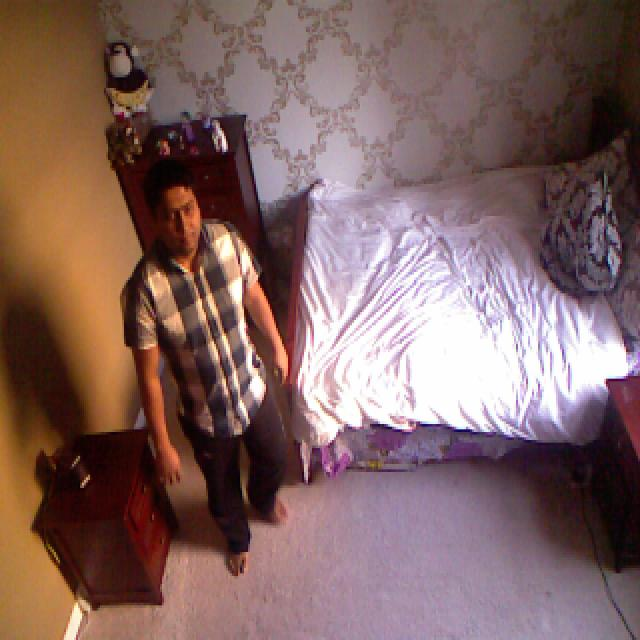standing: (120, 164, 290, 580)
